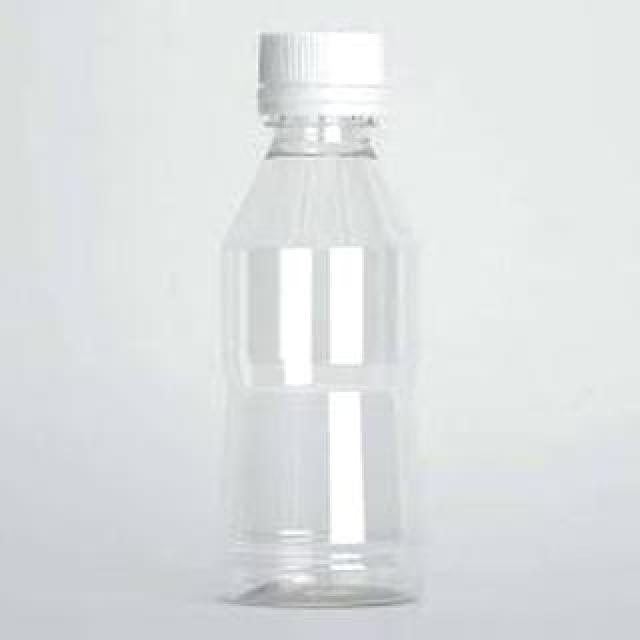Pet_Bottle: (208, 27, 416, 623)
